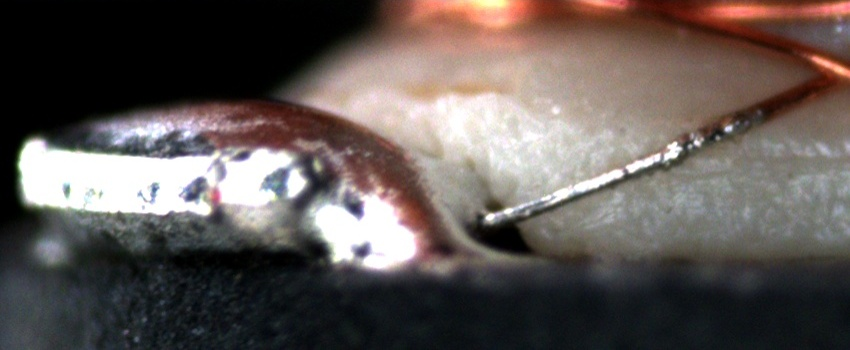CL: (796, 44, 849, 101)
DL: (705, 132, 850, 192)
TS: (478, 106, 761, 228)
